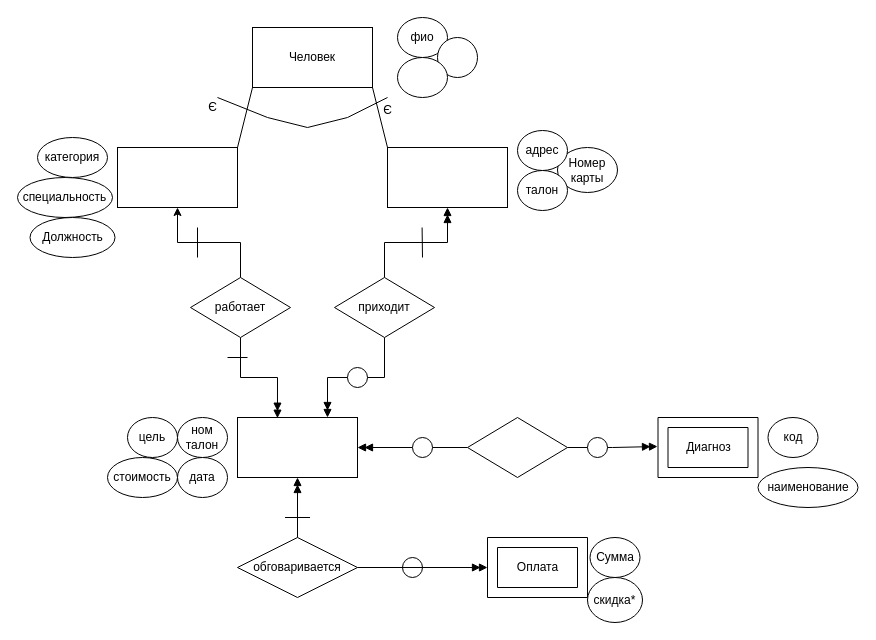
Some shapes in this 876 by 640 pixel diagram are drawn without their labels. Here are the shapes that lost their labels. From the top down, the centre of each, then its label:
At [422,77]: "пол".
At [457,57]: "ДР".
At [177,177]: "Врач".
At [447,177]: "Пациент".
At [297,447]: "Прием".
At [517,447]: "ставится".
